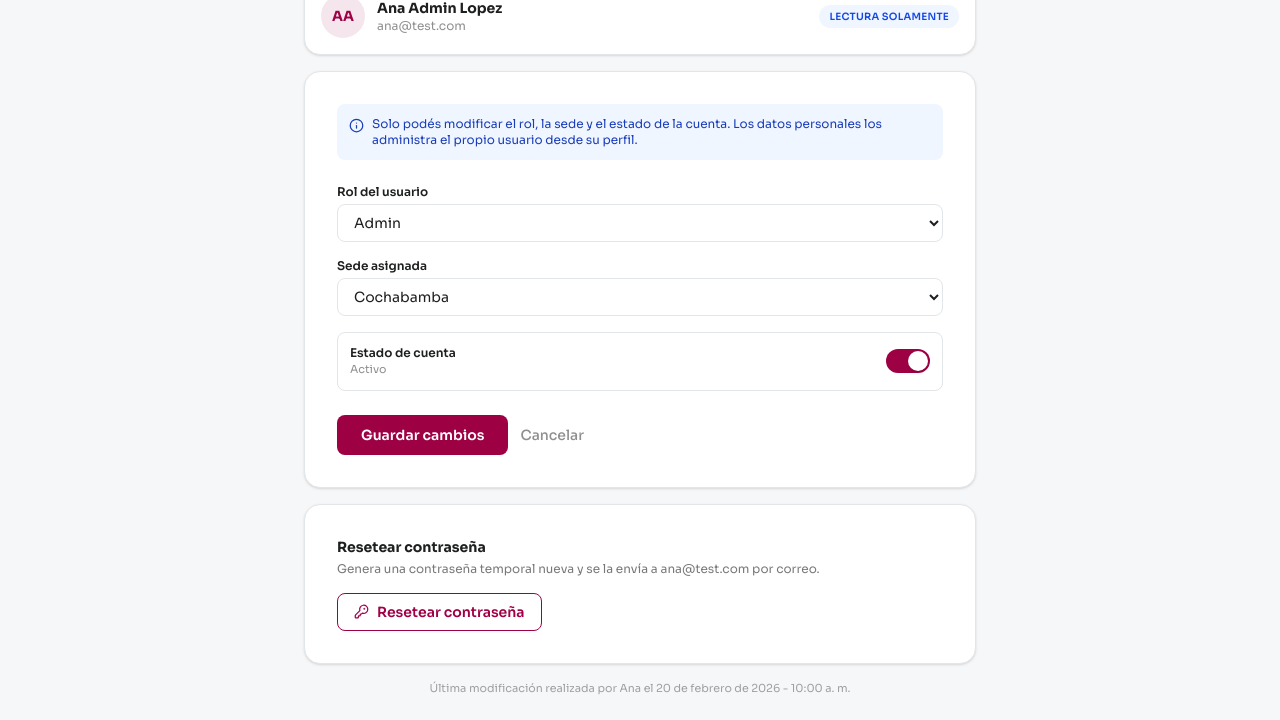
EditarUsuarioPage › resetear contraseña pide confirmación y muestra el mensaje de éxito
The width and height of the screenshot is (1280, 720).
(page scrolled)
Check: the text "Ana Admin Lopez" is shown, box [377,0,502,17]
Click the button "Resetear contraseña" at x=439, y=612, box [337,592,542,630]
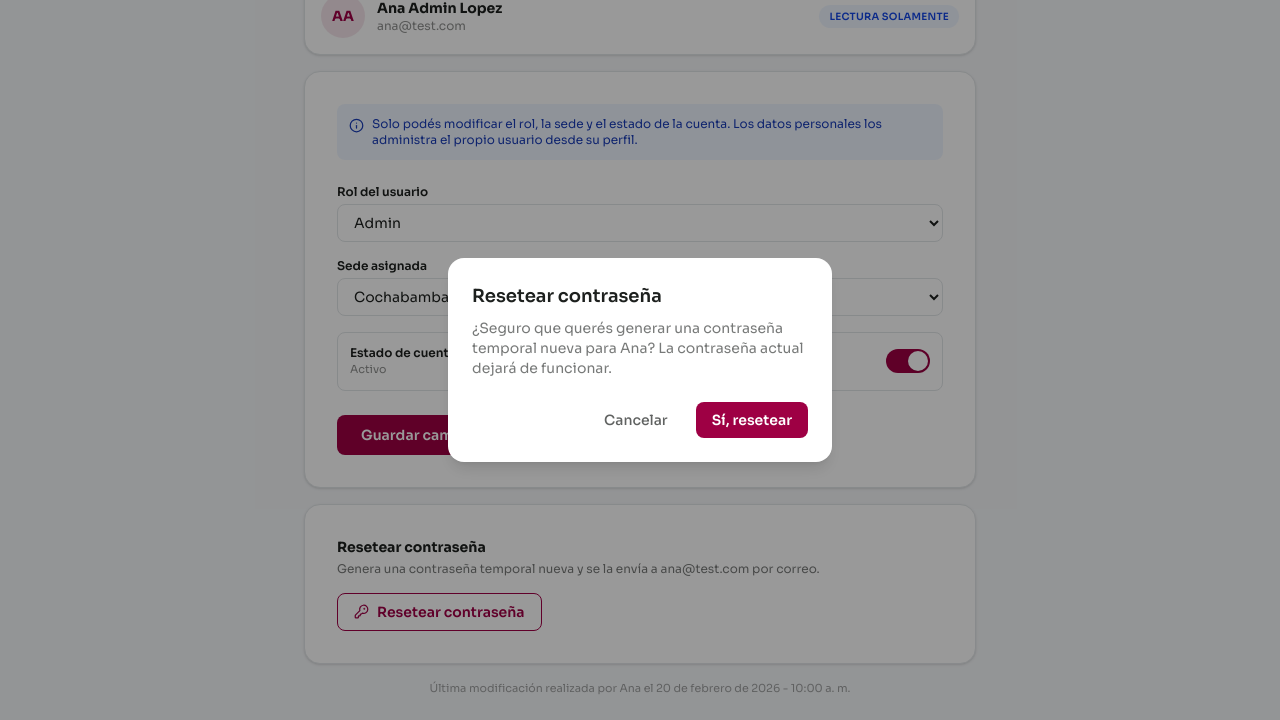
Check: the text "¿Seguro que querés generar" is shown, box [472,319,804,377]
Click the button "Sí, resetear" at x=752, y=420, box [696,402,808,438]
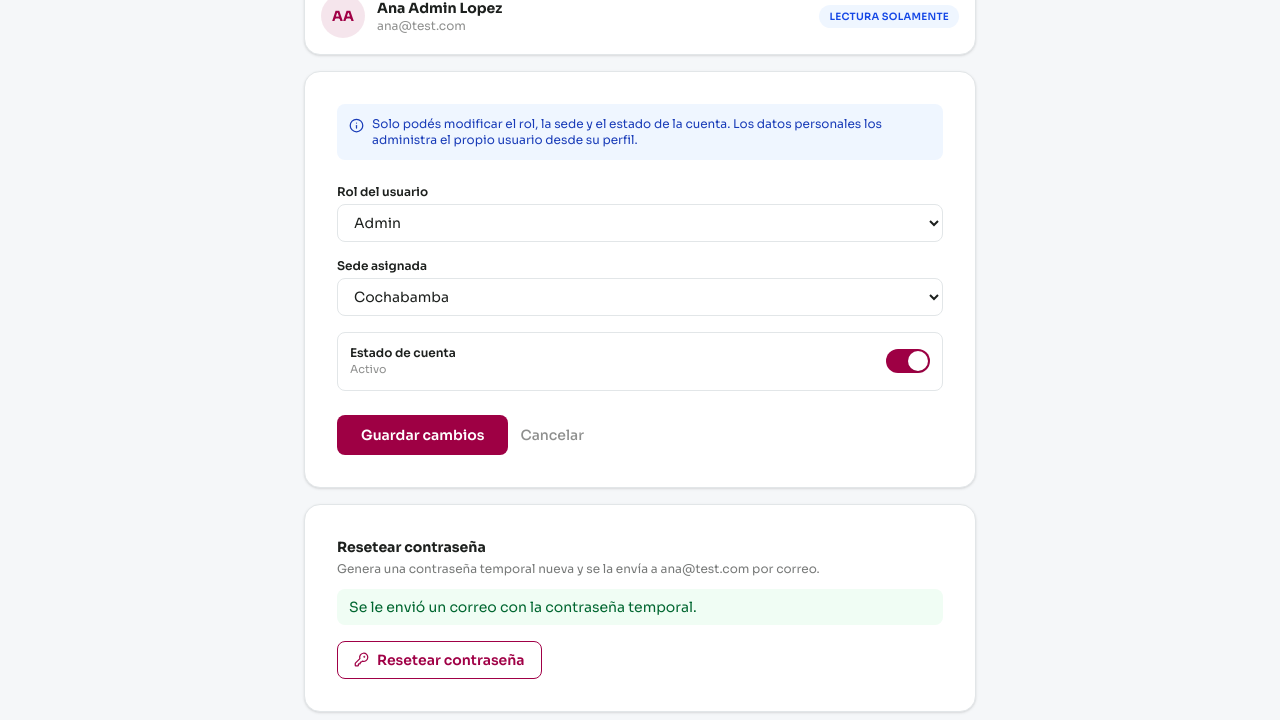
Check: the text "Se le envió un correo con la contraseña temporal." is shown, box [349,598,697,616]
